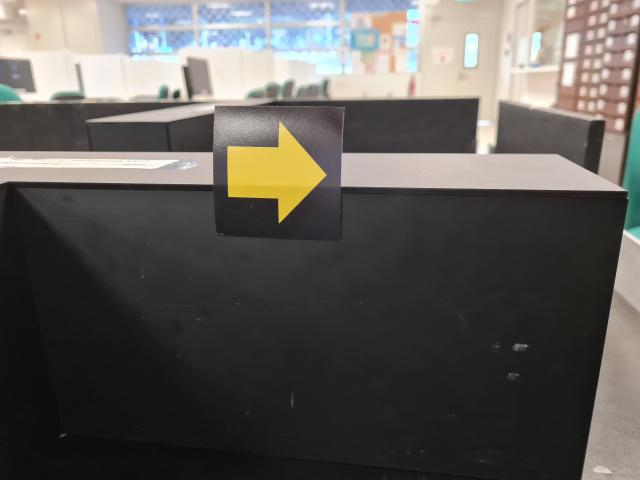right: (210, 104, 347, 244)
